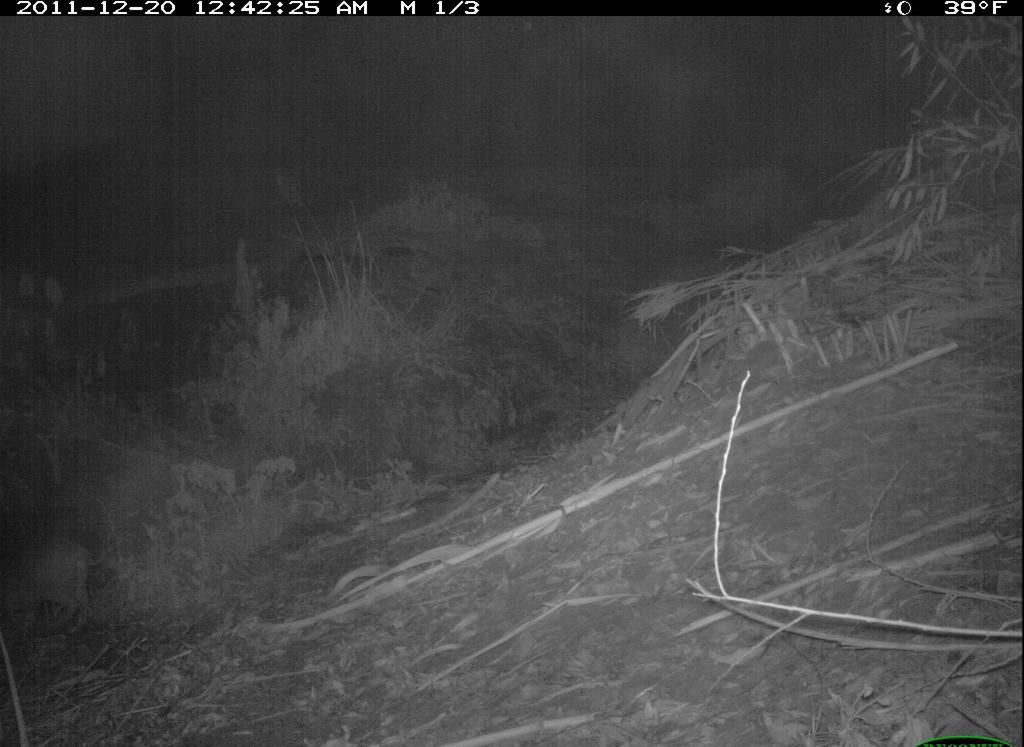bobcat: (1, 531, 110, 641)
